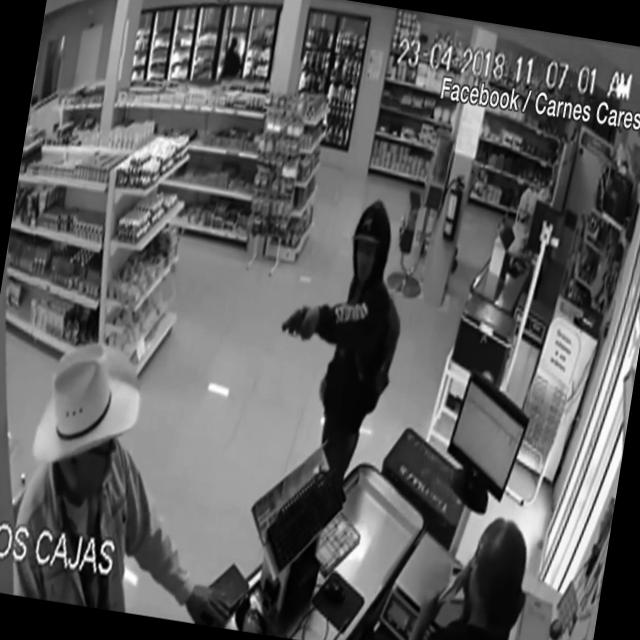gun: (278, 296, 320, 344)
person: (21, 346, 155, 542), (443, 526, 531, 640)
person with a gun: (262, 185, 421, 469)
